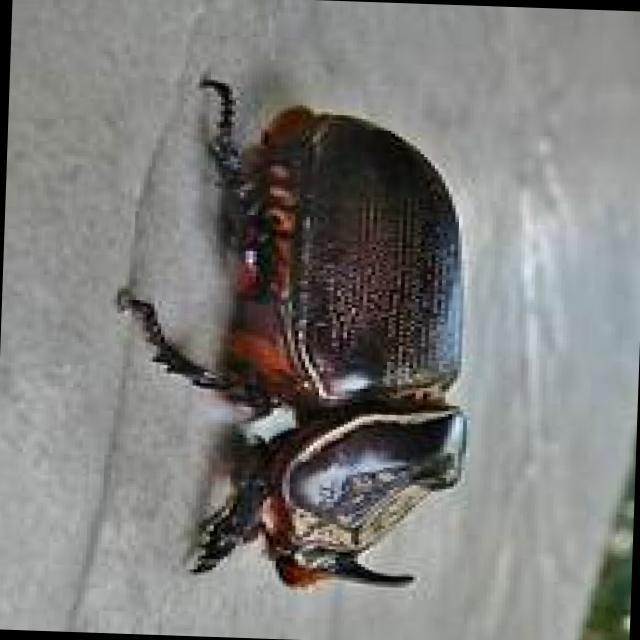Rhino-beetle: (118, 72, 508, 606)
